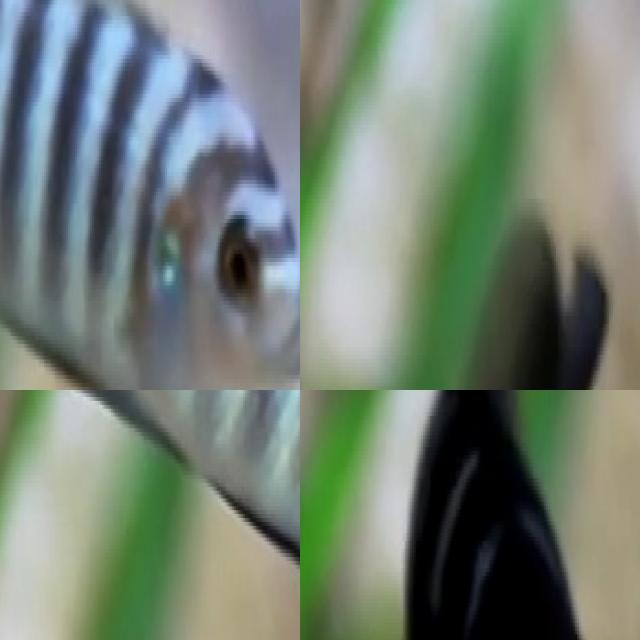fish: (0, 0, 300, 390), (300, 206, 640, 390)
